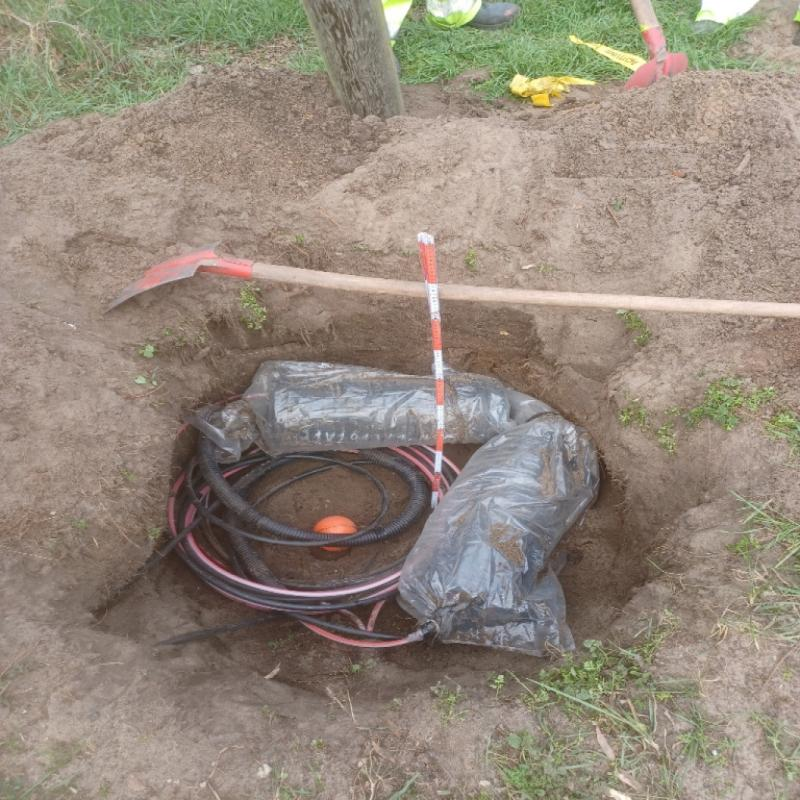Kugelmarker: (312, 516, 360, 552)
NT-Muffen: (389, 416, 603, 654), (197, 357, 561, 462)
